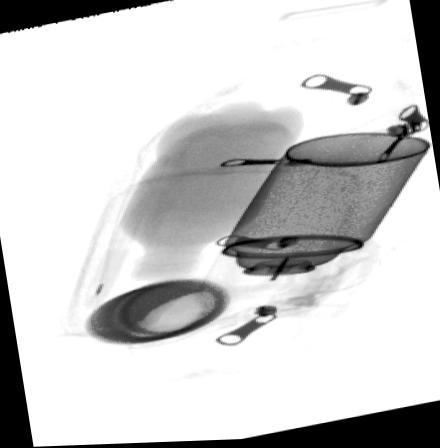Sprayer: (194, 133, 432, 305)
